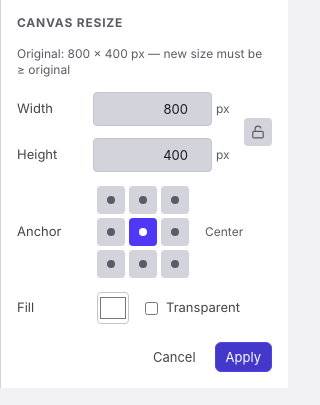
Test: CanvasResizeDialog — size fields › refuses a canvas smaller than the image
Replace the text in the number field labelled "Width px" with "400" at (152,109), box [93,92,212,126]
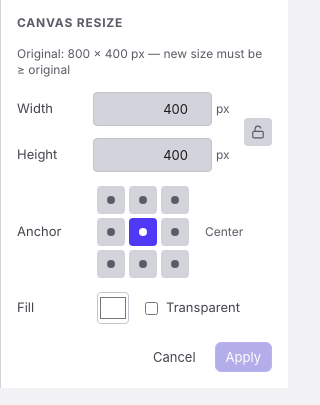
Result: the button "Apply" is disabled at [215,342,272,372]
